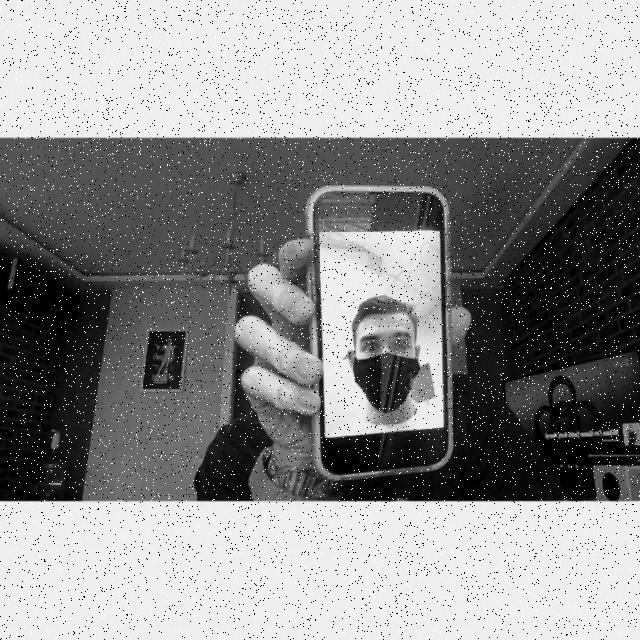fake: (296, 180, 458, 487)
